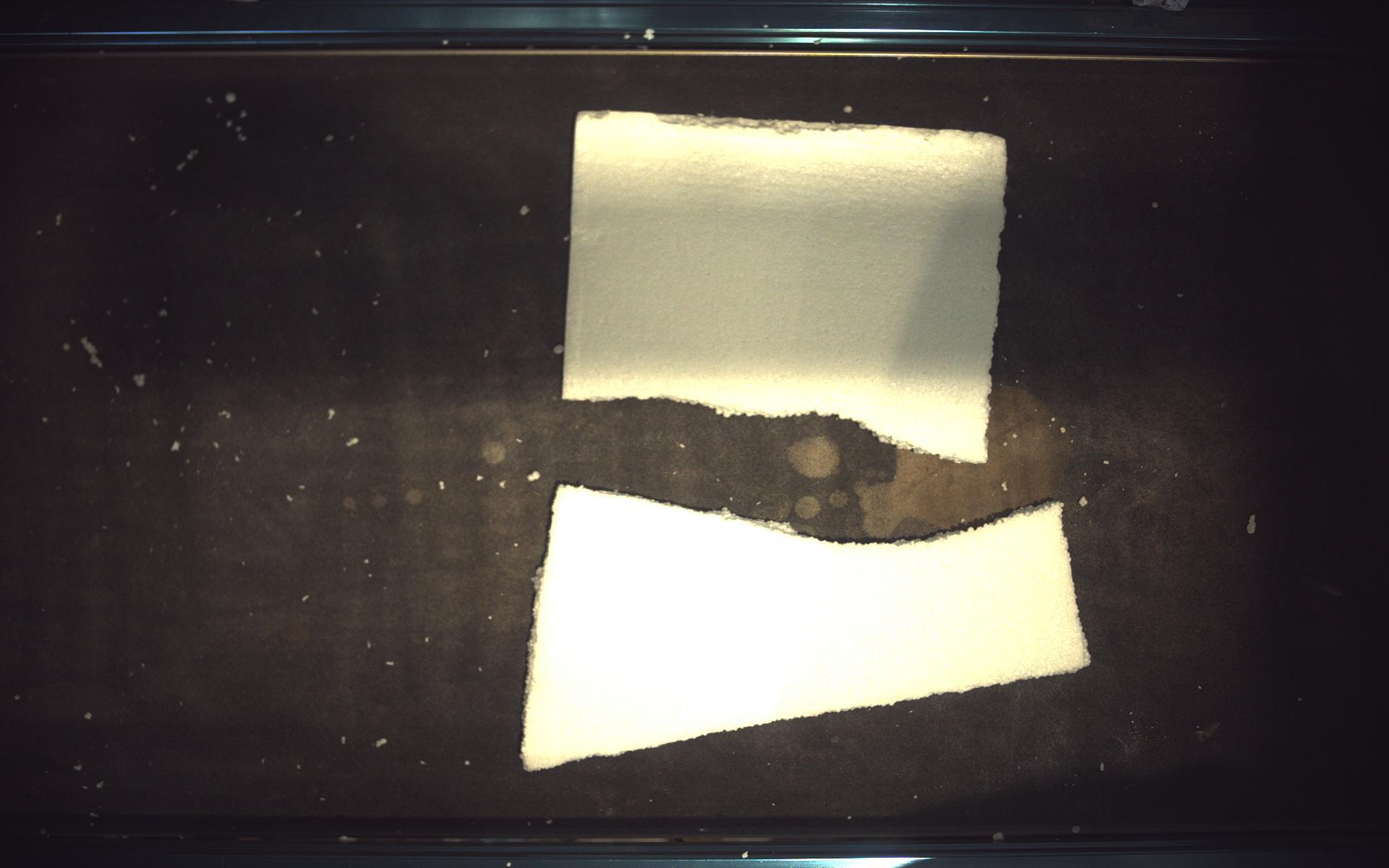foam: (523, 485, 1092, 771), (564, 111, 1008, 463)
